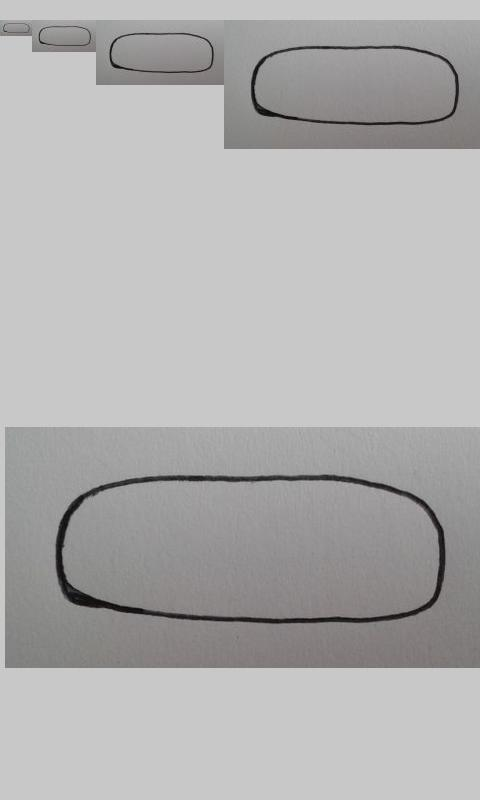chip: (55, 474, 447, 624), (250, 45, 460, 126), (108, 32, 214, 74), (38, 25, 92, 47), (2, 23, 32, 34)
